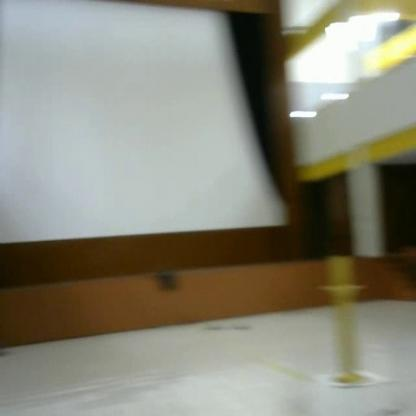pole: (319, 250, 377, 392)
